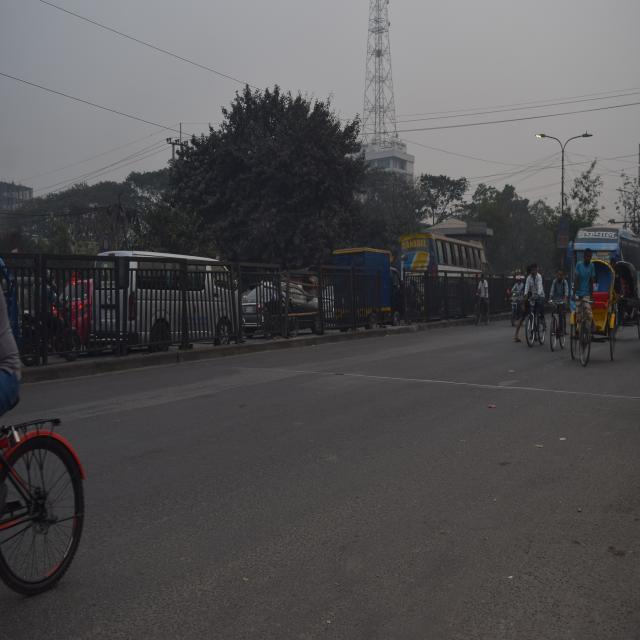bus: (403, 226, 483, 284), (576, 223, 640, 271)
microbus: (92, 241, 238, 354)
pickup-van: (330, 239, 399, 331)
